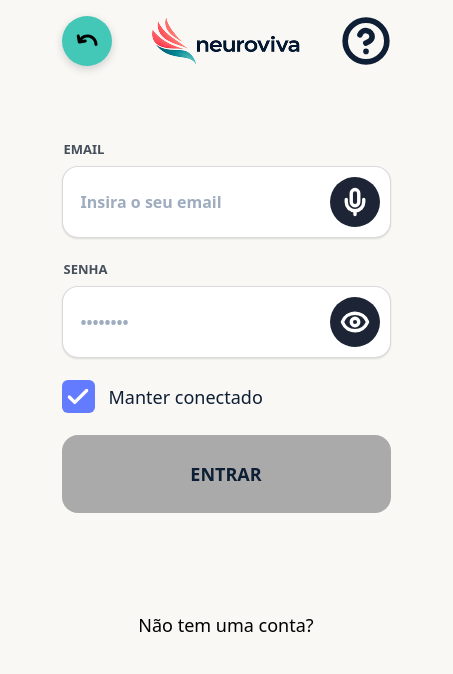
Test: unknown login falls back to the new patient instead of Dona Cida
Type "desconhecido@example.com" into the field labelled "EMAIL".
click(199, 202); type("desconhecido@example.com")  # box [78, 190, 320, 214]
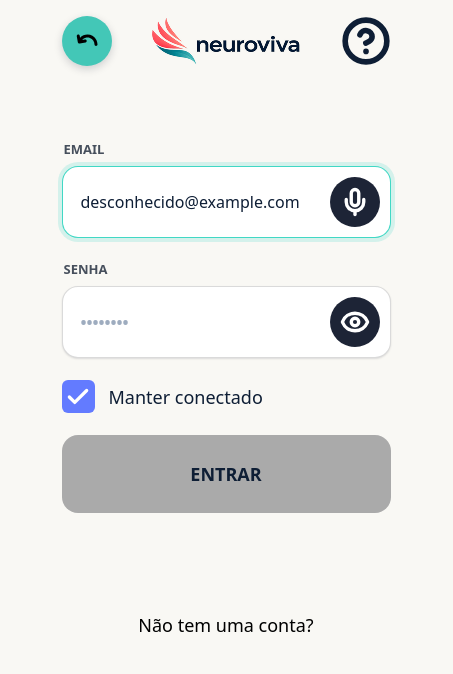
Type "123456" into the password field labelled "SENHA".
click(199, 322); type("123456")  # box [78, 310, 320, 334]
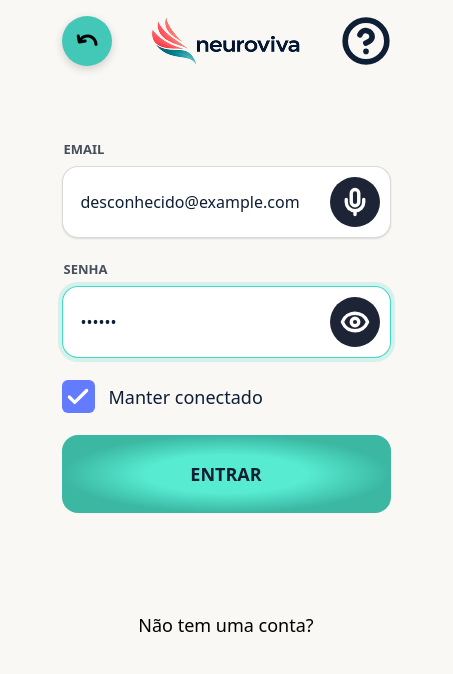
Click the button "ENTRAR".
click(226, 474)  # box [62, 435, 390, 513]
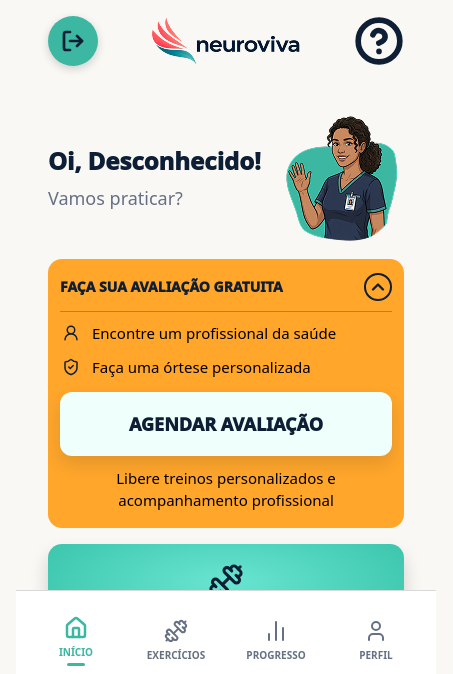
Expected: the heading "Oi, Desconhecido!" is shown, [48, 148, 261, 175]
Expected: the heading "FAÇA SUA AVALIAÇÃO GRATUITA" is shown, [60, 279, 283, 295]
